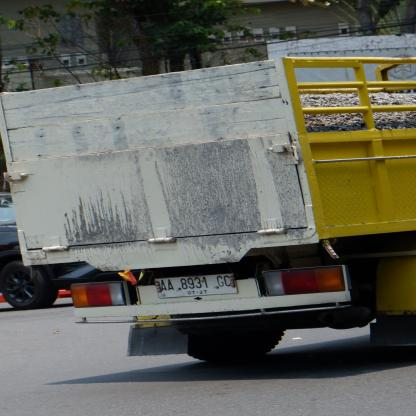Plat-Nomor: (150, 272, 244, 300)
